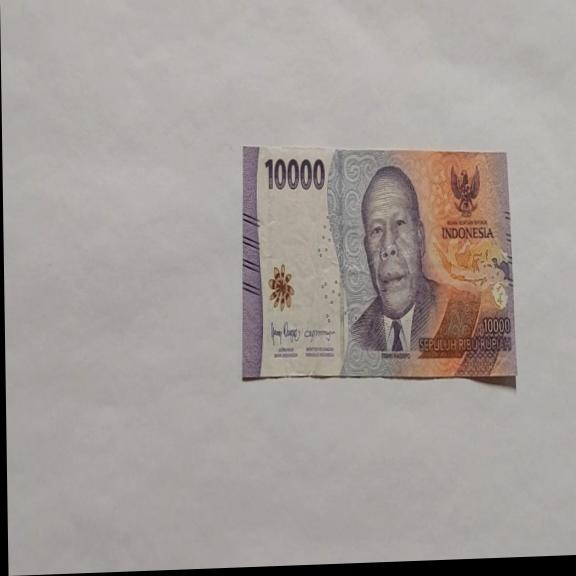Kertas: (238, 134, 517, 391), (263, 153, 326, 193)
